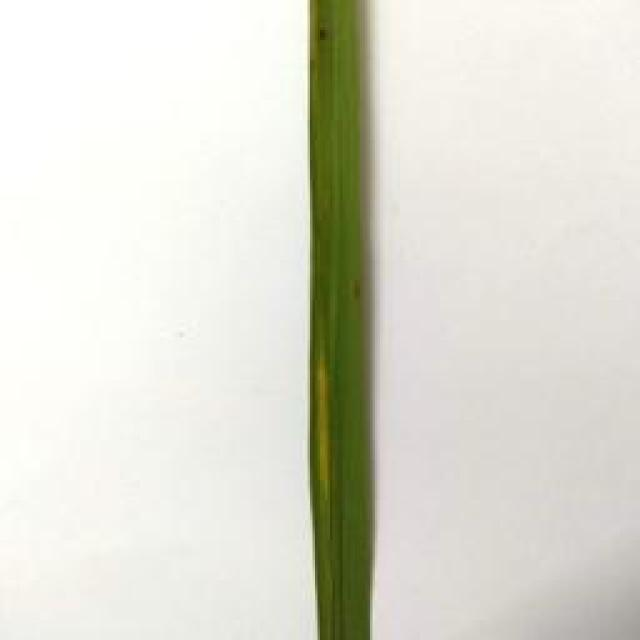Bacterial_Blight: (289, 338, 353, 514)
Brown_Spot: (337, 260, 380, 310), (315, 14, 330, 56)
